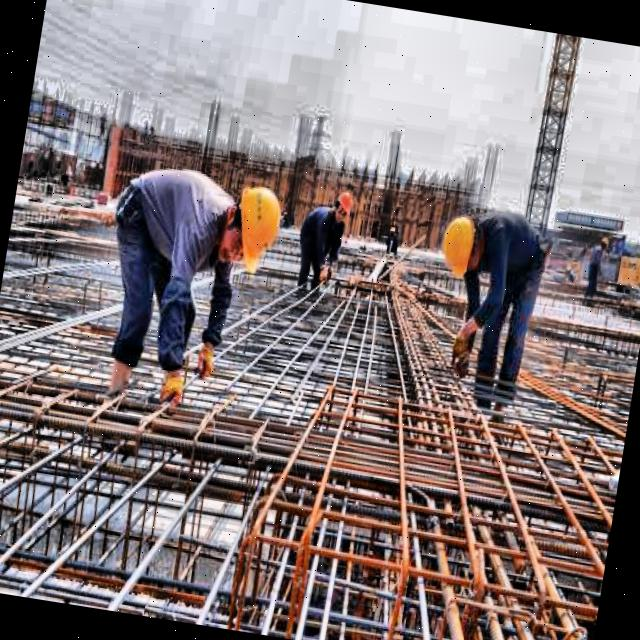helmet: (217, 178, 290, 278), (434, 207, 484, 283), (326, 186, 358, 232)
